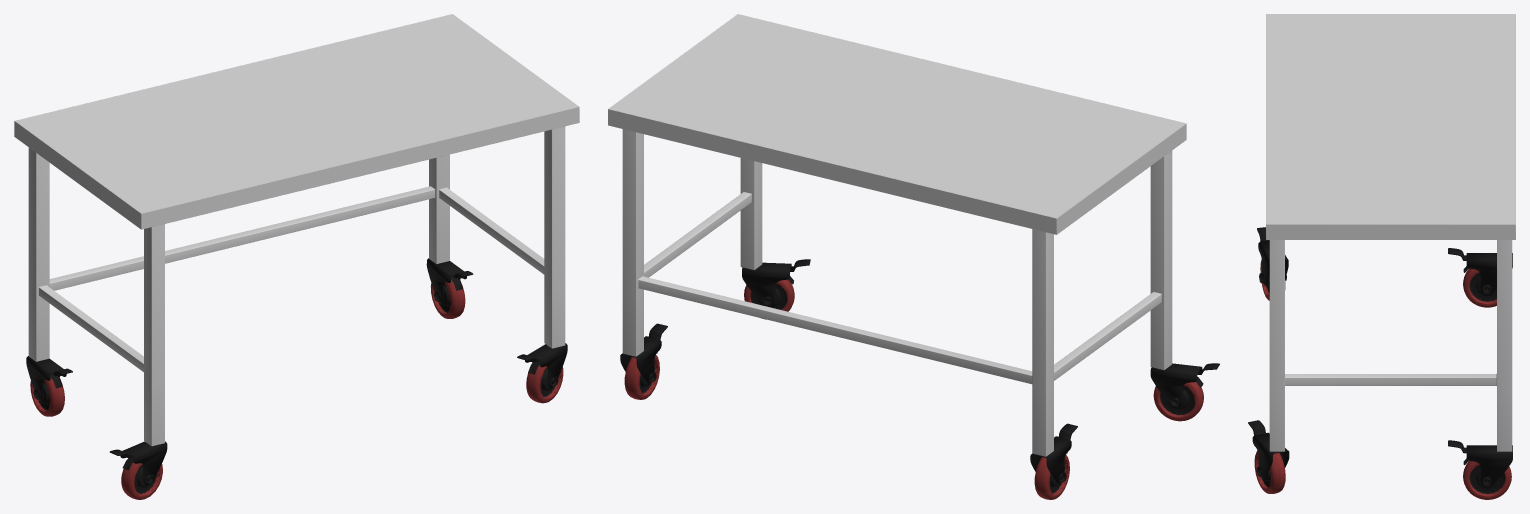
The model's file is workbench.fbx.
3 views of the same model, side by side, from view 1: azimuth 30°, elevation 25°; view 2: azimuth 150°, elevation 25°; view 3: azimuth 270°, elevation 25° (orthographic). The views are drawn at different scales.
Parts seen in each view (by area): view 1: Top, legs, crp_wheel_industrial_A002-mesh001, crp_wheel_industrial_A004-mesh001, crp_wheel_industrial_A001-mesh001, crp_wheel_industrial_A003-mesh001; view 2: Top, legs, crp_wheel_industrial_A002-mesh001, crp_wheel_industrial_A004-mesh001, crp_wheel_industrial_A001-mesh001, crp_wheel_industrial_A003-mesh001; view 3: Top, legs, crp_wheel_industrial_A003-mesh001, crp_wheel_industrial_A001-mesh001, crp_wheel_industrial_A004-mesh001, crp_wheel_industrial_A002-mesh001.
Boxes of the visible parts, box(x1,y1,x2,y2) form: Top: box(14, 14, 579, 229); legs: box(28, 126, 565, 446); crp_wheel_industrial_A002-mesh001: box(109, 441, 167, 499); crp_wheel_industrial_A004-mesh001: box(517, 343, 567, 403); crp_wheel_industrial_A001-mesh001: box(26, 356, 72, 416); crp_wheel_industrial_A003-mesh001: box(426, 258, 473, 318); Top: box(608, 14, 1186, 234); legs: box(622, 129, 1172, 456); crp_wheel_industrial_A002-mesh001: box(1150, 363, 1219, 421); crp_wheel_industrial_A004-mesh001: box(742, 259, 810, 319); crp_wheel_industrial_A001-mesh001: box(1030, 423, 1077, 499); crp_wheel_industrial_A003-mesh001: box(620, 323, 667, 399); Top: box(1266, 14, 1515, 239); legs: box(1269, 240, 1512, 451); crp_wheel_industrial_A003-mesh001: box(1448, 440, 1512, 499); crp_wheel_industrial_A001-mesh001: box(1448, 248, 1512, 307); crp_wheel_industrial_A004-mesh001: box(1248, 420, 1289, 493); crp_wheel_industrial_A002-mesh001: box(1257, 227, 1288, 300).
Bounding box in the file's own units: 129 × 75.57 × 64.74.
